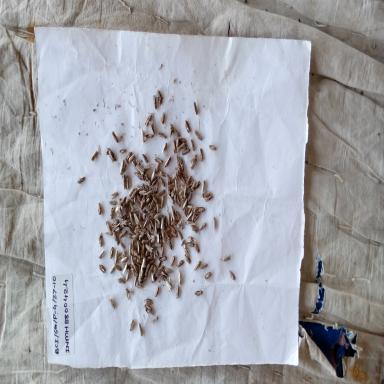pbw: (98, 231, 106, 249), (148, 119, 156, 136), (108, 148, 116, 164), (178, 156, 186, 172), (183, 242, 191, 258), (193, 257, 201, 273), (134, 163, 144, 175), (97, 262, 107, 274), (157, 88, 163, 107), (90, 149, 98, 163), (132, 212, 140, 226), (163, 156, 171, 170), (105, 218, 112, 234), (165, 265, 175, 276), (154, 154, 164, 165), (188, 235, 198, 246), (222, 252, 231, 264), (177, 230, 186, 242), (172, 138, 178, 156), (140, 152, 149, 164), (229, 269, 238, 281), (176, 258, 185, 270), (192, 240, 201, 252), (171, 125, 180, 137), (176, 142, 185, 154), (156, 186, 165, 198), (111, 130, 119, 143), (159, 213, 165, 230), (118, 229, 128, 239), (122, 173, 127, 193), (204, 192, 214, 202), (143, 302, 153, 312), (207, 142, 217, 152), (194, 287, 204, 297), (109, 297, 116, 311), (144, 261, 151, 275), (165, 280, 172, 294), (122, 262, 129, 276), (176, 218, 184, 230), (140, 264, 146, 280), (133, 248, 141, 260), (128, 186, 136, 198), (160, 194, 166, 210), (124, 150, 132, 162), (146, 242, 154, 254), (190, 223, 198, 235), (190, 206, 196, 222), (118, 160, 125, 173), (98, 248, 105, 261), (141, 216, 148, 229), (166, 238, 173, 251), (131, 159, 138, 172), (198, 222, 207, 232), (153, 211, 162, 221), (152, 94, 157, 112), (114, 233, 120, 248), (158, 130, 167, 140), (149, 315, 159, 324), (161, 140, 167, 155), (176, 284, 182, 299), (128, 153, 136, 164), (184, 253, 192, 264), (134, 172, 145, 180), (171, 169, 179, 180), (170, 205, 175, 222), (212, 216, 217, 233), (170, 254, 177, 266), (182, 197, 188, 211), (128, 198, 135, 210), (187, 190, 193, 204), (128, 318, 134, 332), (138, 323, 144, 337), (191, 156, 197, 170), (187, 210, 194, 222), (185, 174, 191, 188), (147, 264, 154, 276), (184, 120, 190, 134), (96, 202, 102, 216), (140, 256, 147, 268), (145, 113, 152, 125), (164, 229, 171, 241), (181, 146, 190, 155), (118, 250, 127, 259), (204, 270, 212, 280), (121, 212, 129, 222), (200, 179, 205, 195), (128, 240, 132, 260), (140, 208, 148, 218), (76, 176, 86, 184), (200, 262, 208, 272), (145, 132, 155, 140), (199, 147, 204, 163), (202, 189, 210, 199), (119, 241, 127, 251), (114, 204, 122, 214), (187, 178, 195, 188), (167, 194, 175, 204), (114, 262, 122, 272), (160, 230, 166, 243), (176, 210, 182, 223), (154, 284, 160, 297), (158, 176, 165, 187), (194, 181, 201, 192), (160, 240, 164, 259), (190, 138, 195, 153), (140, 198, 145, 213), (154, 180, 159, 195), (176, 196, 182, 208), (120, 256, 128, 265), (160, 112, 166, 124), (186, 218, 194, 227), (134, 183, 142, 192), (192, 102, 198, 114), (177, 269, 181, 287), (150, 218, 156, 230), (150, 234, 156, 246), (118, 196, 126, 205), (132, 193, 138, 205), (117, 207, 123, 219), (174, 178, 179, 192), (108, 200, 118, 207), (111, 190, 118, 200), (193, 212, 200, 222), (196, 207, 206, 214), (175, 162, 182, 172), (110, 206, 115, 220), (170, 219, 180, 226), (126, 269, 131, 283), (145, 178, 152, 188), (158, 272, 165, 282), (109, 263, 115, 274), (126, 233, 137, 239), (155, 250, 161, 261), (149, 199, 155, 210), (141, 166, 152, 172), (155, 202, 160, 215), (150, 169, 155, 182), (180, 184, 188, 192), (173, 190, 177, 206), (154, 219, 158, 235), (148, 258, 156, 266), (105, 229, 113, 237), (158, 254, 166, 262), (118, 277, 126, 285), (138, 188, 146, 196), (145, 190, 153, 198), (118, 146, 126, 154), (188, 153, 196, 161), (156, 228, 160, 244), (160, 269, 168, 277), (151, 275, 158, 284), (152, 194, 159, 203), (166, 174, 173, 183), (134, 228, 144, 234), (176, 135, 180, 150), (109, 246, 114, 258), (131, 265, 136, 277), (131, 241, 135, 256), (129, 257, 135, 267), (171, 186, 176, 198), (135, 284, 145, 290), (125, 199, 129, 214), (144, 299, 154, 305), (164, 214, 168, 229), (141, 128, 145, 142), (186, 203, 194, 210), (149, 220, 153, 234), (180, 172, 188, 179), (141, 244, 145, 258), (129, 210, 133, 224), (169, 230, 176, 238), (179, 136, 187, 143), (183, 185, 187, 199), (176, 155, 180, 169), (113, 226, 121, 233), (159, 169, 167, 176), (146, 230, 151, 241), (137, 193, 142, 204), (168, 224, 174, 233), (112, 217, 118, 226), (153, 263, 157, 276), (134, 275, 138, 288), (153, 178, 158, 188), (145, 196, 150, 206), (181, 175, 186, 185), (137, 239, 140, 255), (115, 249, 118, 265), (136, 259, 144, 265), (156, 259, 162, 267), (168, 275, 172, 287), (178, 188, 184, 196), (142, 237, 150, 243), (131, 208, 139, 214), (168, 124, 172, 136), (128, 226, 134, 234), (187, 241, 195, 247), (155, 164, 160, 173), (151, 271, 155, 282), (148, 212, 155, 218), (126, 176, 129, 190), (153, 244, 161, 249), (167, 213, 170, 226), (168, 183, 174, 189), (121, 220, 130, 224), (160, 263, 164, 272)
